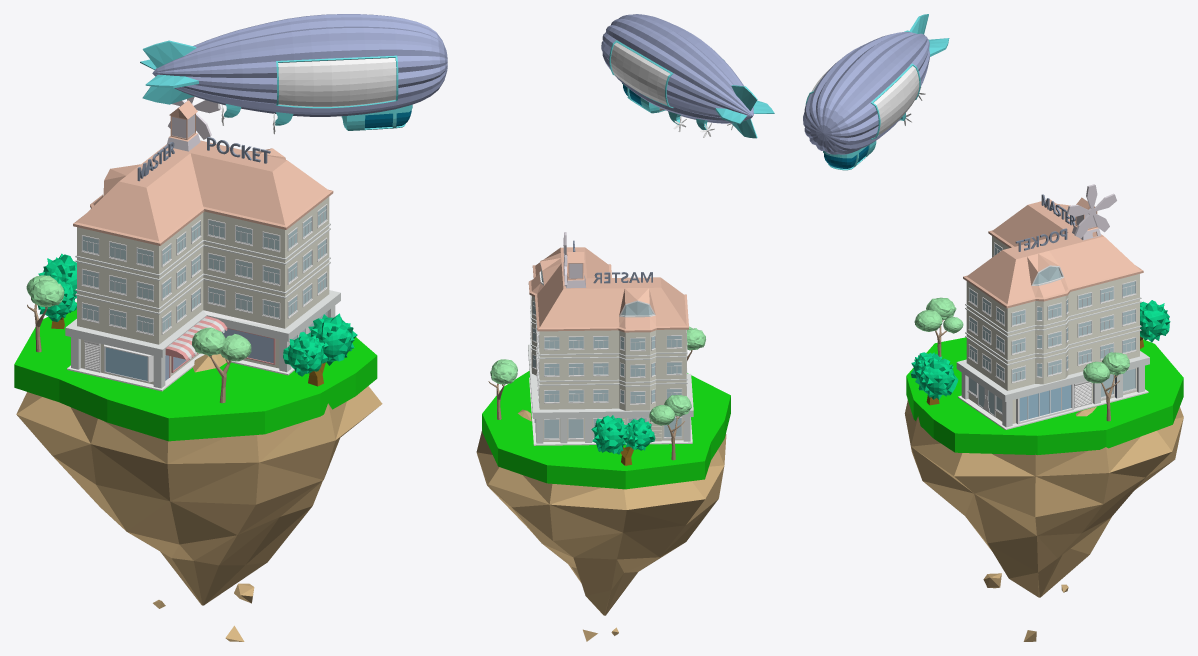
3 renders of one model, left to right at view 1: azimuth 30°, elevation 25°; view 2: azimuth 150°, elevation 25°; view 3: azimuth 270°, elevation 25°, orthographic. The views are drawn at different scales.
Visible parts, largest first — view 1: low_poly_all; view 2: low_poly_all; view 3: low_poly_all.
Boxes of the visible parts, <box> form: low_poly_all: <box>14,14,447,641</box>; low_poly_all: <box>476,14,774,641</box>; low_poly_all: <box>803,14,1183,641</box>.
Bounding box in the file's own units: 208 × 473 × 280.
